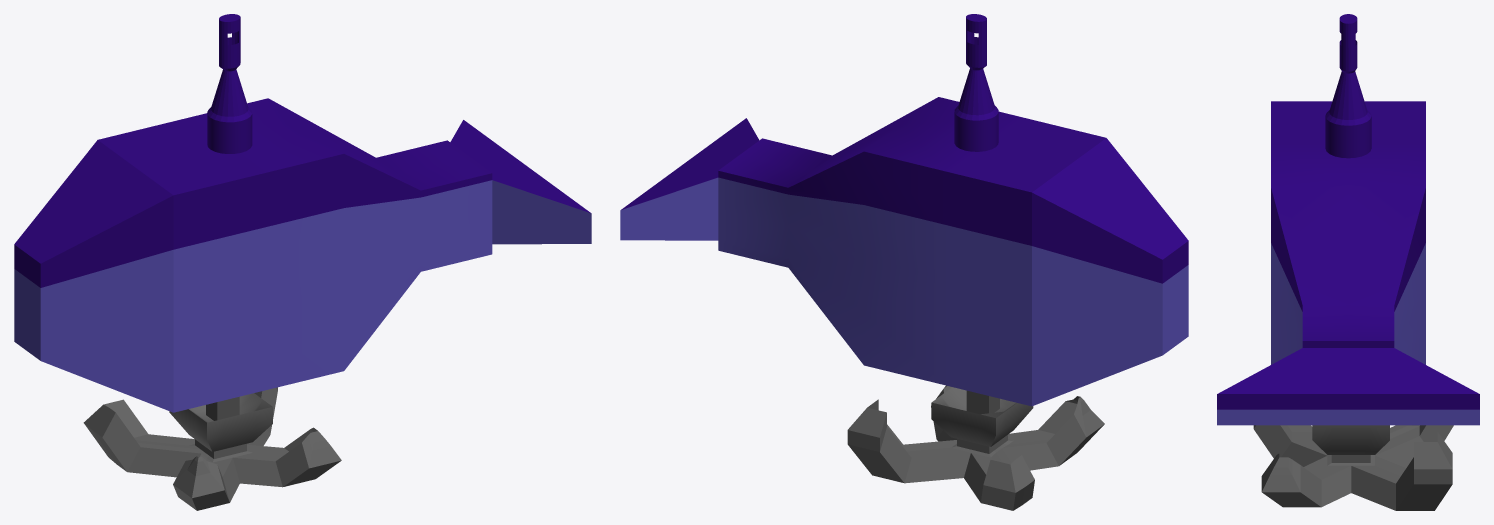
The model's file is Common Bait.fbx.
3 renders of one model, left to right at view 1: azimuth 30°, elevation 25°; view 2: azimuth 150°, elevation 25°; view 3: azimuth 270°, elevation 25°, orthographic. The views are drawn at different scales.
Visible parts, largest first — view 1: Fish_Bait, Hook, Hook_Chain; view 2: Fish_Bait, Hook, Hook_Chain, Hook_Attachment1; view 3: Fish_Bait, Hook, Hook_Chain.
Part boxes in pixels (<box>): Fish_Bait: <box>14,98,591,412</box>; Hook: <box>83,387,341,510</box>; Hook_Chain: <box>207,14,252,153</box>; Fish_Bait: <box>620,97,1188,406</box>; Hook: <box>847,385,1104,510</box>; Hook_Chain: <box>954,14,998,151</box>; Hook_Attachment1: <box>966,390,999,414</box>; Fish_Bait: <box>1217,101,1479,425</box>; Hook: <box>1253,425,1453,510</box>; Hook_Chain: <box>1325,14,1371,158</box>.
Size of the model in its own units: 0.9092 by 0.7842 by 0.4042.
